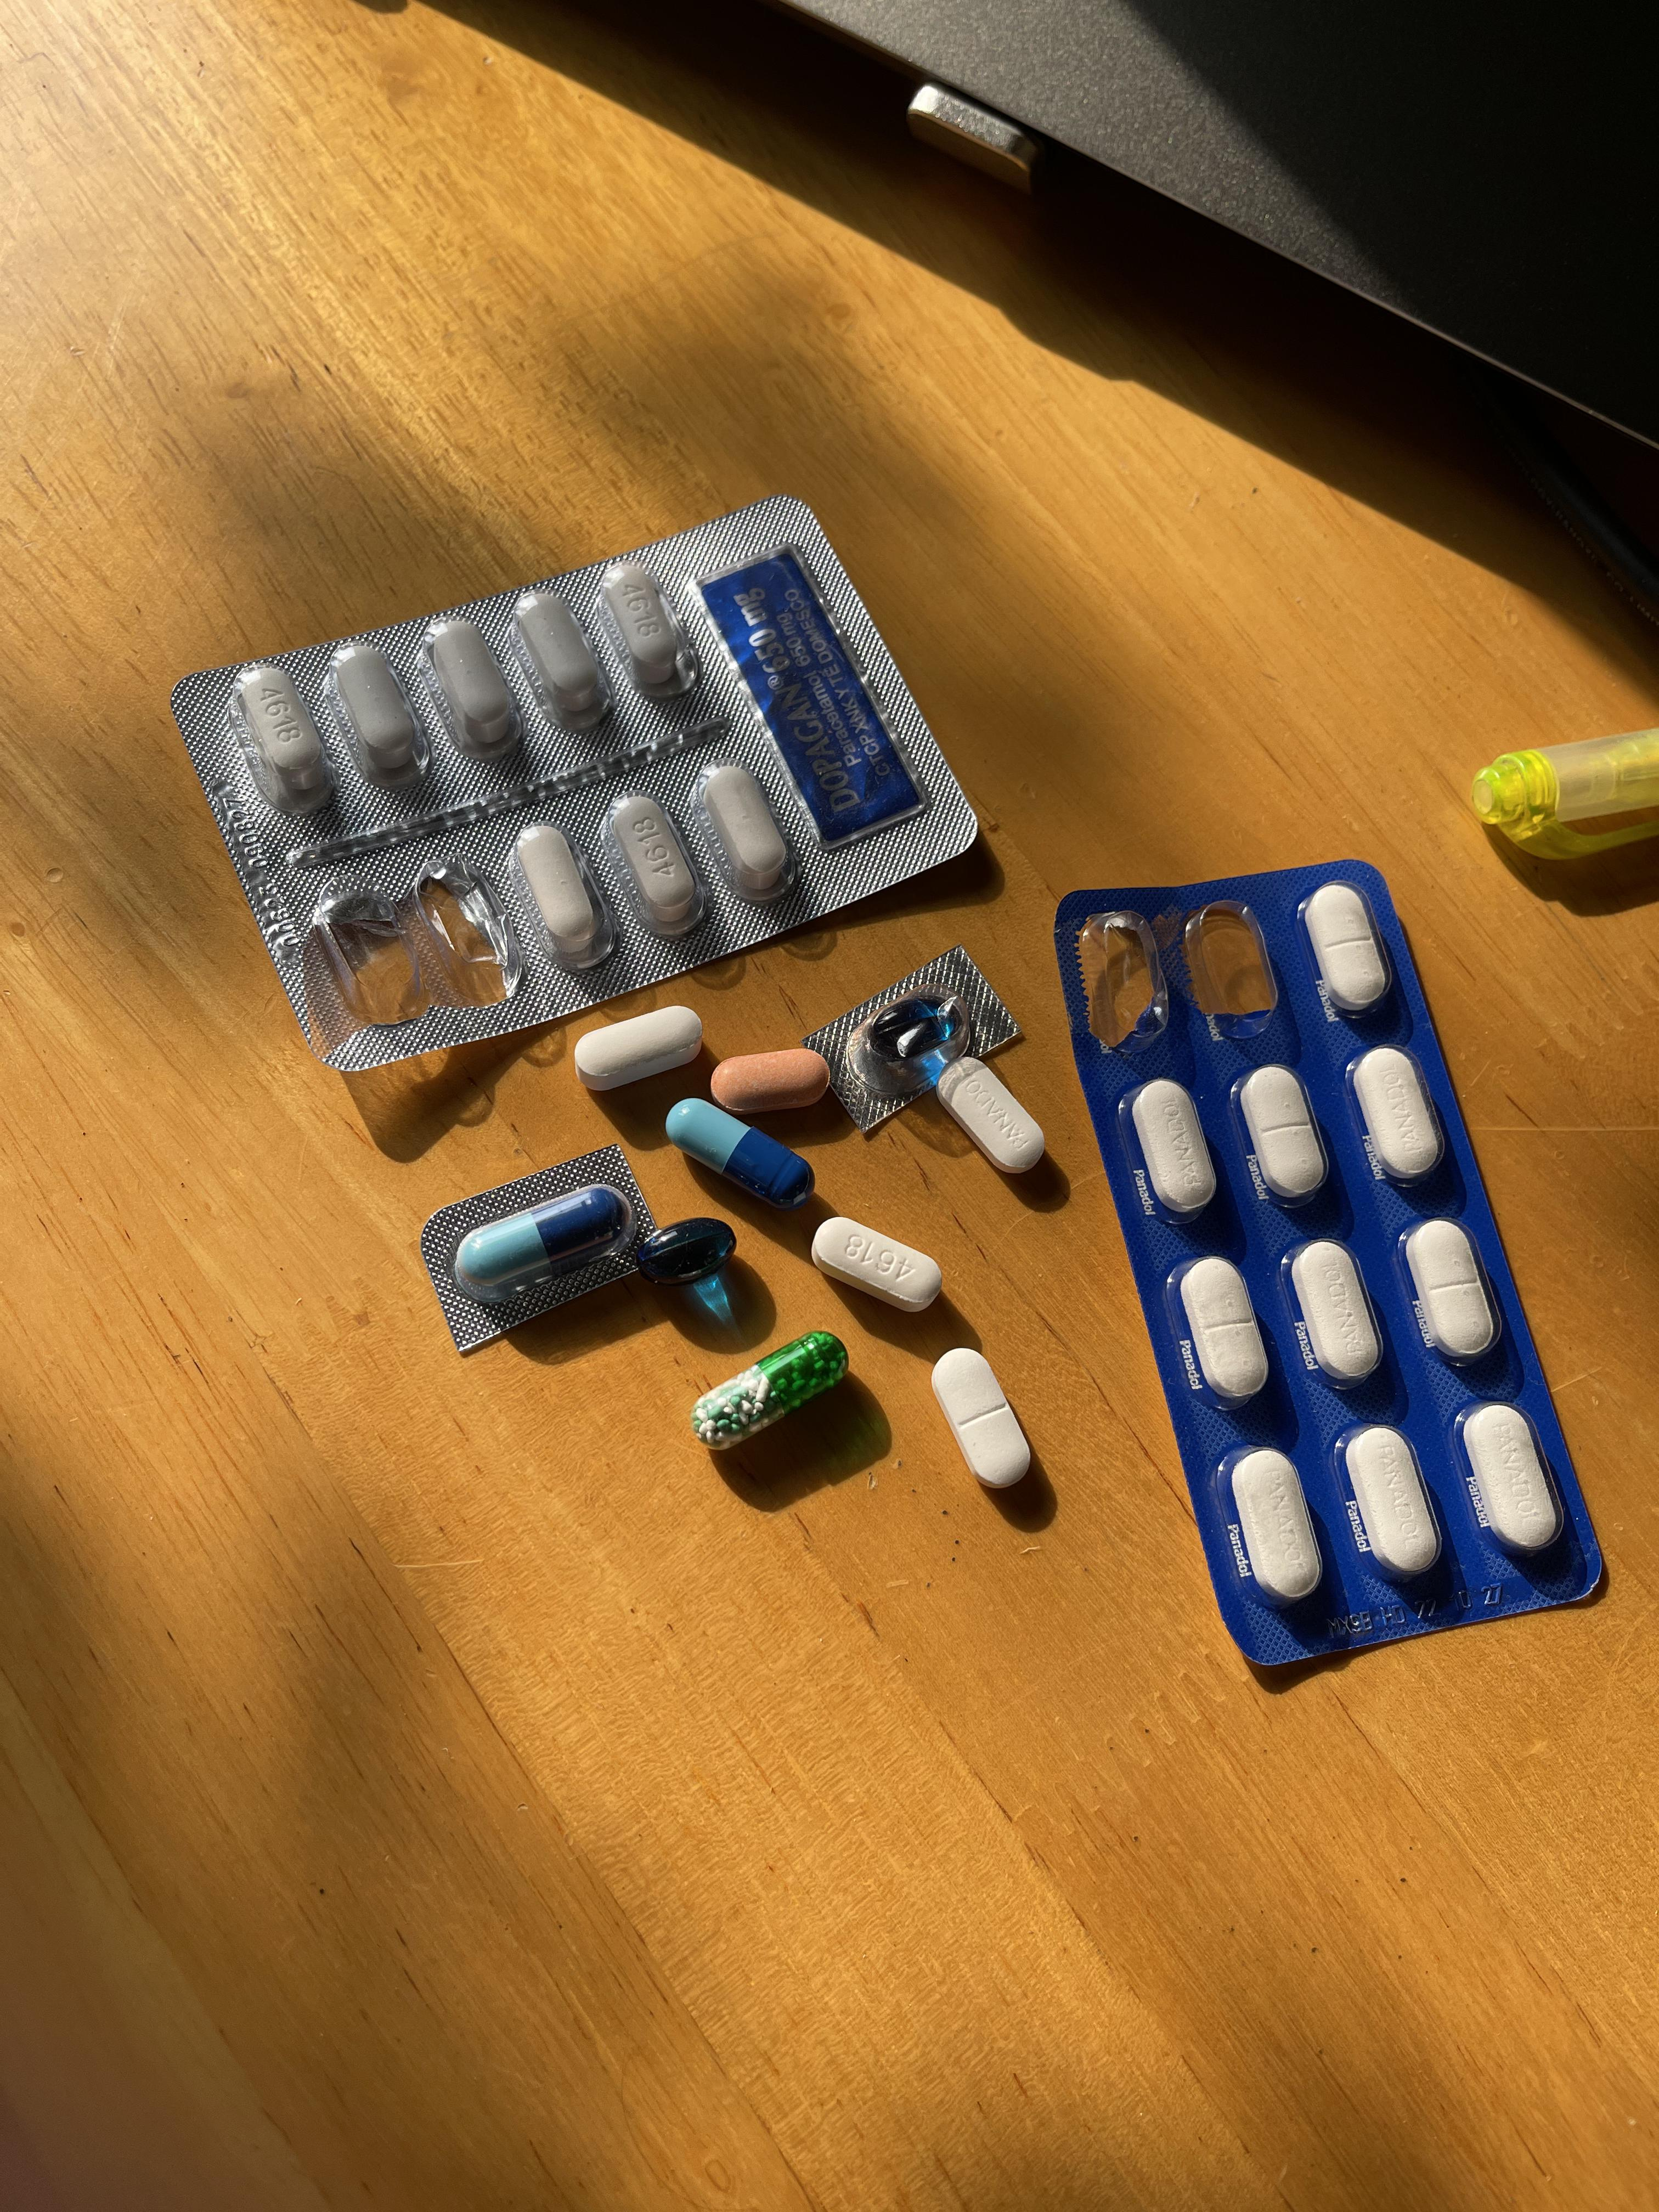Lincomyxin_500mg: (638, 1219, 735, 1282), (873, 1001, 946, 1068)
Loratadine_10mg: (708, 1045, 826, 1109)
Paracetamol_350mg: (1462, 1402, 1558, 1555), (1344, 1426, 1438, 1580), (931, 1346, 1030, 1489), (1230, 1449, 1321, 1602), (1403, 1217, 1495, 1364), (1290, 1240, 1380, 1385), (1178, 1258, 1267, 1402), (1352, 1045, 1441, 1183), (1237, 1066, 1324, 1202), (1129, 1078, 1216, 1214), (939, 1062, 1046, 1172), (1305, 885, 1387, 1015)
Paracetamol_500mg: (606, 794, 704, 937), (697, 763, 795, 904), (511, 822, 606, 965), (235, 671, 331, 808), (427, 618, 519, 758), (514, 590, 608, 725), (331, 646, 422, 782), (575, 1001, 709, 1092), (810, 1216, 938, 1308), (603, 566, 690, 695)
Paracetamol_650mg: (697, 1331, 845, 1447)
pill: (457, 1186, 624, 1289), (666, 1096, 812, 1205)
